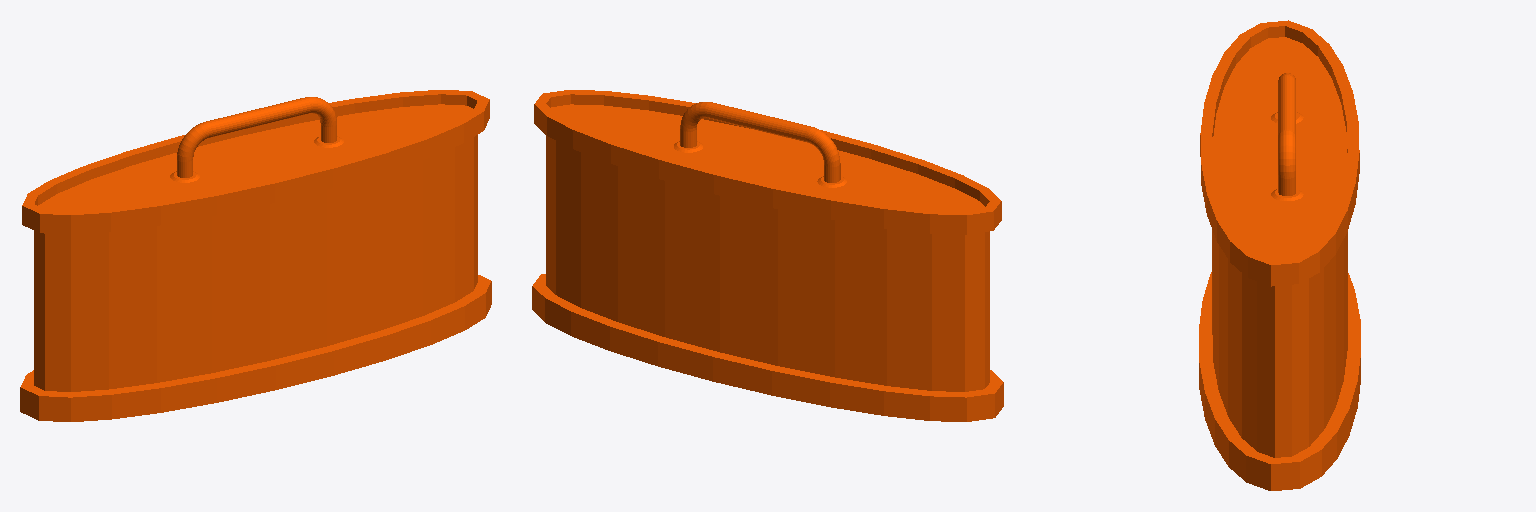
URDF robot description (Purse_334bf3542211da33e858db1dc3499392):
<?xml version="1.0" ?>
<robot name="Purse_334bf3542211da33e858db1dc3499392">
   <material name="obj_color">
      <color rgba="1.0 0.423529411765 0.0392156862745 1.0"/>
   </material>
   <link name="top">
      <inertial>
         <origin rpy="7.820448059701017e-05 0.0002312653989354515 0.0002767158110200969" xyz="-0.0001022277518217964 -0.0002609417082805055 -0.005524587580738973"/>
         <mass value="0.2103166254317579"/>
         <inertia ixx="7.820463015064533e-05" ixy="-2.074446968454649e-09" ixz="-1.512842892073878e-07" iyy="0.0002767148924382836" iyz="-2.043251585516832e-07" izz="0.0002312661679636299"/>
      </inertial>
      <visual>
         <origin rpy="0 0 0" xyz="0 0 0"/>
         <geometry>
            <mesh filename="top_watertight_tiny.stl" scale="1 1 1"/>
         </geometry>
         <material name="obj_color"/>
      </visual>
      <collision>
         <origin rpy="0 0 0" xyz="0 0 0"/>
         <geometry>
            <mesh filename="top_watertight_tiny.obj" scale="1 1 1"/>
         </geometry>
      </collision>
   </link>
   <link name="bottom">
      <inertial>
         <origin rpy="1.633333333199431e-08 1.633333333199431e-08 1.633333333362855e-08" xyz="0.3464080000000008 0.3464080000000008 0.3464080000000008"/>
         <mass value="0.0009800000000000017"/>
         <inertia ixx="1.633333333253906e-08" ixy="5.447480642029219e-19" ixz="5.447480642029219e-19" iyy="1.633333333253906e-08" iyz="5.447480642029219e-19" izz="1.633333333253906e-08"/>
      </inertial>
      <visual>
         <origin rpy="0 0 0" xyz="0 0 0"/>
         <geometry>
            <mesh filename="bottom_watertight_tiny.stl" scale="1 1 1"/>
         </geometry>
         <material name="obj_color"/>
      </visual>
   </link>
   <link name="world"/>
   <joint name="world_to_base" type="fixed">
      <origin xyz="0 0 0"/>
      <axis xyz="0 0 0"/>
      <parent link="world"/>
      <child link="bottom"/>
   </joint>
   <joint name="rotation" type="revolute">
      <origin xyz="0 0 0"/>
      <axis xyz="0 0 -1"/>
      <parent link="bottom"/>
      <child link="top"/>
      <dynamics damping="1.0" friction="1.0"/>
      <limit effort="0.1" velocity="0.1" lower="0" upper="0.001"/>
   </joint>
</robot>

--- What the picture shows (computed from the rendered views, not written in the file) ---
Views: 3 orthographic renders of the robot side by side, from view 1: azimuth 30°, elevation 25°; view 2: azimuth 150°, elevation 25°; view 3: azimuth 270°, elevation 25°.
Robot: Purse_334bf3542211da33e858db1dc3499392 — 3 links, 2 joints (1 revolute, 1 fixed); root link world; default pose: every joint at zero.
Links seen in each view (by area): view 1: top; view 2: top; view 3: top.
Boxes of the visible links, x1=… form: top: x1=20, y1=90, x2=491, y2=421; top: x1=532, y1=90, x2=1003, y2=421; top: x1=1199, y1=20, x2=1360, y2=490.
Size in the robot's own frame: 0.1291 by 0.036 by 0.0653 metres.
1 mesh visuals loaded from 2 distinct referenced files (1 binary STL); not drawn: 1 (reference not matched to a file when rendering).
